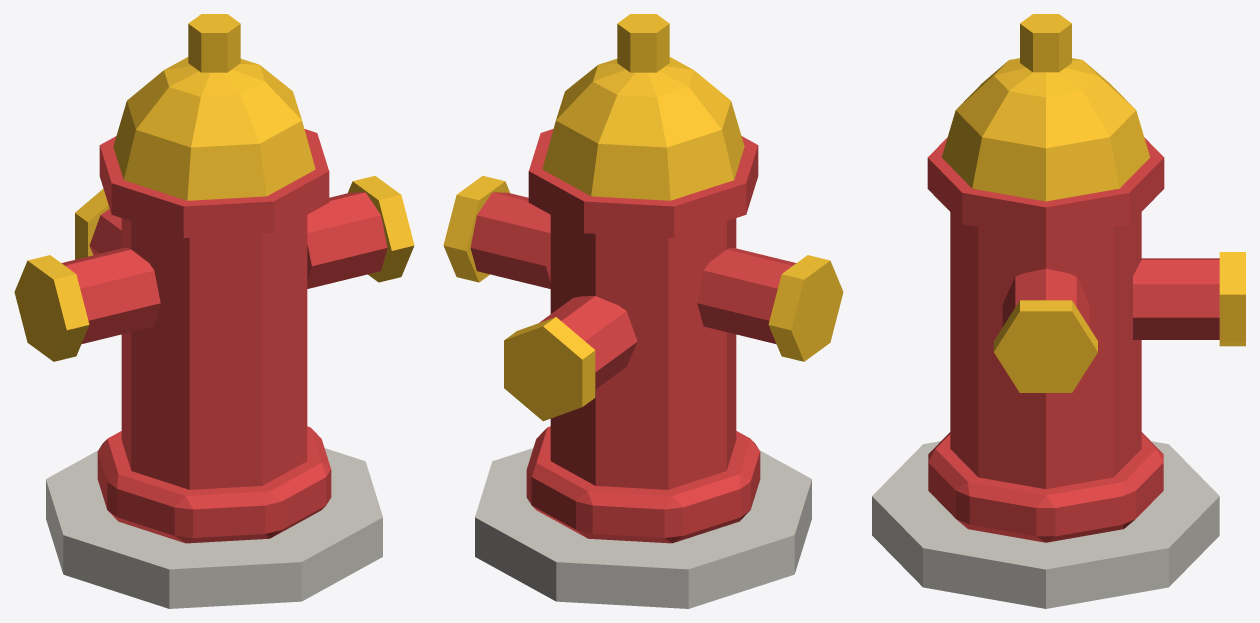
Rendered from kit-cidade-hidrante.glb.
The picture shows the model from 3 angles, left to right: view 1: azimuth 30°, elevation 25°; view 2: azimuth 150°, elevation 25°; view 3: azimuth 270°, elevation 25°; orthographic projection.
Parts seen in each view (by area): view 1: corpo; view 2: corpo; view 3: corpo.
Boxes of the visible parts, x1,y1,x2,y2 form: corpo: [14, 14, 414, 608]; corpo: [443, 14, 843, 608]; corpo: [872, 14, 1245, 608].
Bounding box in the file's own units: 0.23 × 0.325 × 0.215.
